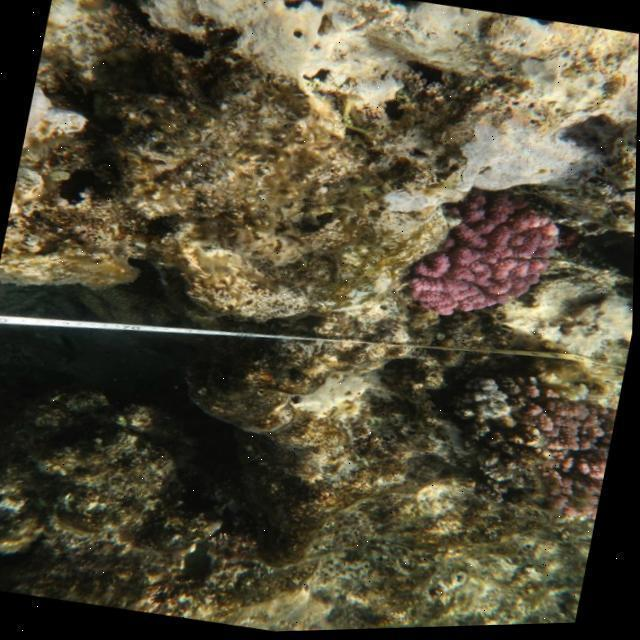Healthy Coral: (397, 178, 570, 337), (521, 369, 615, 512)
